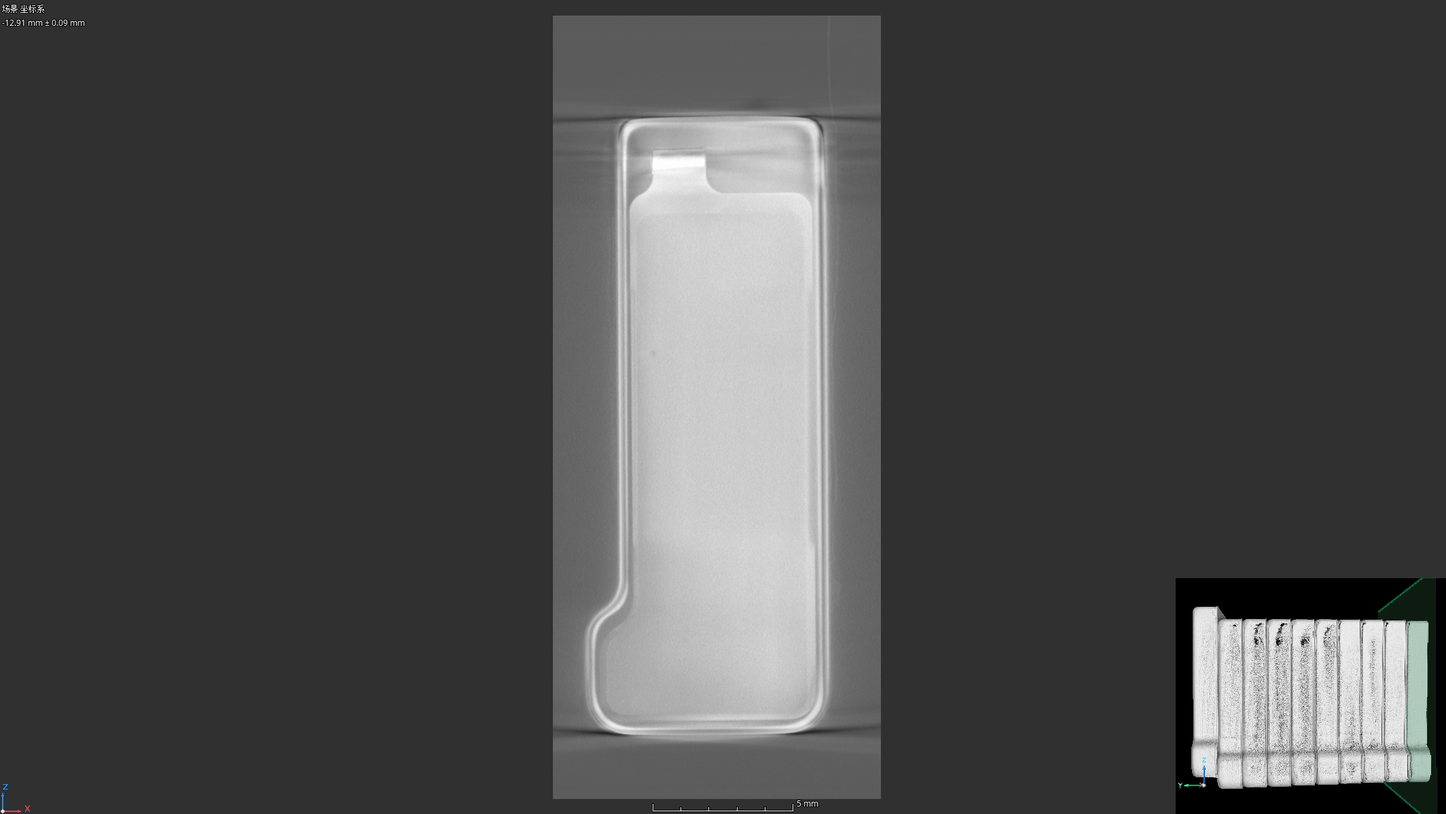dark: (646, 346, 659, 359)
